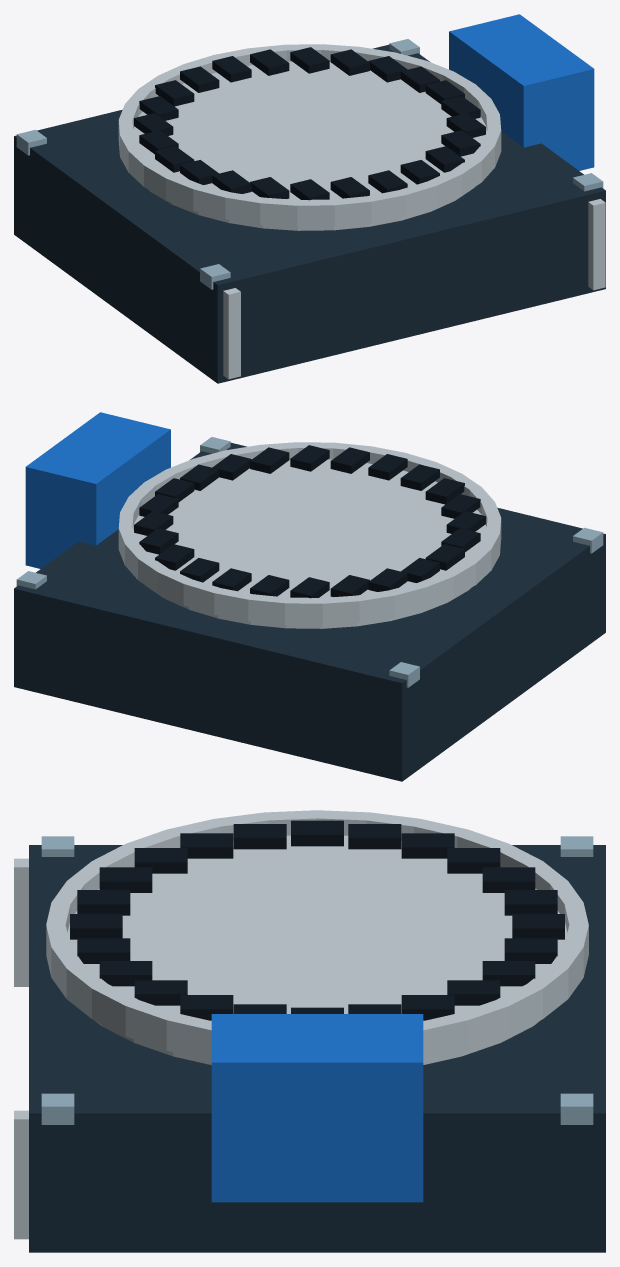
The model's file is 31_L73_CarrierSpeedEncoder.fbx.
The picture shows the model from 3 angles, top to bottom: view 1: azimuth 30°, elevation 25°; view 2: azimuth 150°, elevation 25°; view 3: azimuth 270°, elevation 25°; orthographic projection. The views are drawn at different scales.
Parts seen in each view (by area): view 1: CarrierSpeedEncoder, CarrierSpeedEncoder_Part_0007, CarrierSpeedEncoder_Part_0008, CarrierSpeedEncoder_Part_0029, CarrierSpeedEncoder_Part_0026, CarrierSpeedEncoder_Part_0028, CarrierSpeedEncoder_Part_0027, CarrierSpeedEncoder_Part_0030, CarrierSpeedEncoder_Part_0025, CarrierSpeedEncoder_Part_0012, CarrierSpeedEncoder_Part_0013, CarrierSpeedEncoder_Part_0019 (+15 smaller); view 2: CarrierSpeedEncoder, CarrierSpeedEncoder_Part_0007, CarrierSpeedEncoder_Part_0008, CarrierSpeedEncoder_Part_0013, CarrierSpeedEncoder_Part_0014, CarrierSpeedEncoder_Part_0016, CarrierSpeedEncoder_Part_0012, CarrierSpeedEncoder_Part_0015, CarrierSpeedEncoder_Part_0017, CarrierSpeedEncoder_Part_0030, CarrierSpeedEncoder_Part_0029, CarrierSpeedEncoder_Part_0023 (+15 smaller); view 3: CarrierSpeedEncoder, CarrierSpeedEncoder_Part_0007, CarrierSpeedEncoder_Part_0008, CarrierSpeedEncoder_Part_0021, CarrierSpeedEncoder_Part_0020, CarrierSpeedEncoder_Part_0022, CarrierSpeedEncoder_Part_0015, CarrierSpeedEncoder_Part_0027, CarrierSpeedEncoder_Part_0019, CarrierSpeedEncoder_Part_0023, CarrierSpeedEncoder_Part_0016, CarrierSpeedEncoder_Part_0026 (+12 smaller).
Part boxes in pixels (bbox=[...]): CarrierSpeedEncoder: bbox=[14, 14, 605, 383]; CarrierSpeedEncoder_Part_0007: bbox=[133, 61, 486, 230]; CarrierSpeedEncoder_Part_0008: bbox=[118, 44, 501, 227]; CarrierSpeedEncoder_Part_0029: bbox=[290, 47, 329, 73]; CarrierSpeedEncoder_Part_0026: bbox=[180, 66, 219, 92]; CarrierSpeedEncoder_Part_0028: bbox=[250, 49, 289, 75]; CarrierSpeedEncoder_Part_0027: bbox=[212, 56, 251, 82]; CarrierSpeedEncoder_Part_0030: bbox=[330, 49, 369, 75]; CarrierSpeedEncoder_Part_0025: bbox=[155, 80, 194, 106]; CarrierSpeedEncoder_Part_0012: bbox=[441, 130, 480, 156]; CarrierSpeedEncoder_Part_0013: bbox=[425, 146, 464, 172]; CarrierSpeedEncoder_Part_0019: bbox=[212, 170, 251, 193]; CarrierSpeedEncoder: bbox=[14, 412, 605, 781]; CarrierSpeedEncoder_Part_0007: bbox=[133, 459, 486, 628]; CarrierSpeedEncoder_Part_0008: bbox=[118, 442, 501, 625]; CarrierSpeedEncoder_Part_0013: bbox=[290, 445, 329, 471]; CarrierSpeedEncoder_Part_0014: bbox=[330, 447, 369, 473]; CarrierSpeedEncoder_Part_0016: bbox=[400, 464, 439, 490]; CarrierSpeedEncoder_Part_0012: bbox=[250, 447, 289, 473]; CarrierSpeedEncoder_Part_0015: bbox=[368, 454, 407, 480]; CarrierSpeedEncoder_Part_0017: bbox=[425, 478, 464, 504]; CarrierSpeedEncoder_Part_0030: bbox=[139, 528, 178, 554]; CarrierSpeedEncoder_Part_0029: bbox=[155, 544, 194, 570]; CarrierSpeedEncoder_Part_0023: bbox=[368, 568, 407, 591]; CarrierSpeedEncoder: bbox=[14, 836, 605, 1252]; CarrierSpeedEncoder_Part_0007: bbox=[67, 835, 567, 1064]; CarrierSpeedEncoder_Part_0008: bbox=[46, 810, 588, 1060]; CarrierSpeedEncoder_Part_0021: bbox=[291, 820, 343, 846]; CarrierSpeedEncoder_Part_0020: bbox=[233, 824, 286, 849]; CarrierSpeedEncoder_Part_0022: bbox=[348, 824, 401, 849]; CarrierSpeedEncoder_Part_0015: bbox=[70, 914, 122, 939]; CarrierSpeedEncoder_Part_0027: bbox=[512, 914, 564, 939]; CarrierSpeedEncoder_Part_0019: bbox=[180, 833, 233, 858]; CarrierSpeedEncoder_Part_0023: bbox=[401, 833, 454, 858]; CarrierSpeedEncoder_Part_0016: bbox=[77, 890, 130, 915]; CarrierSpeedEncoder_Part_0026: bbox=[504, 890, 557, 915].
Size of the model in its own units: 75.28 by 26 by 61.56.
